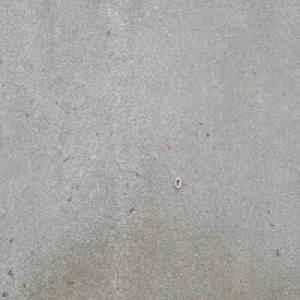Nut: (174, 176, 181, 189)
